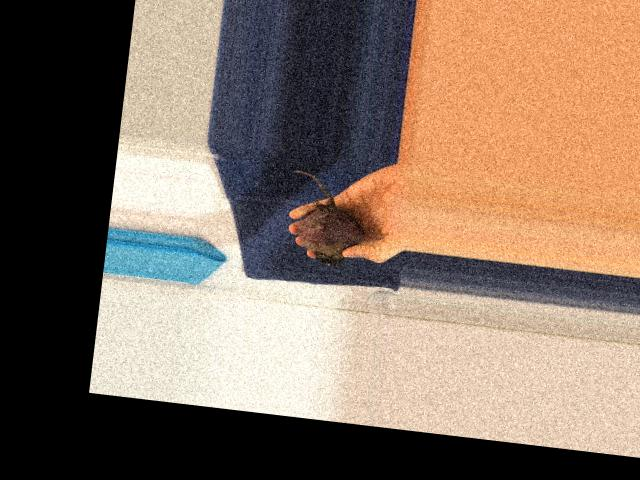beet: (280, 169, 369, 269)
